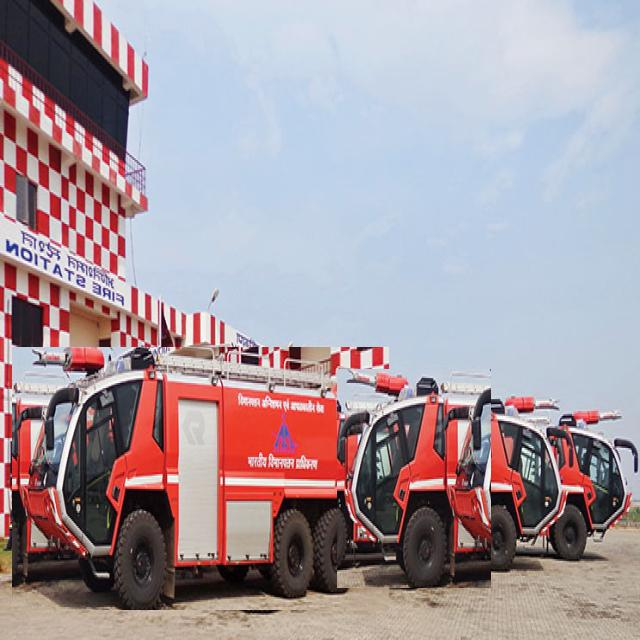emergency: (12, 347, 388, 610), (337, 369, 490, 588), (468, 398, 588, 570), (550, 411, 638, 559)
